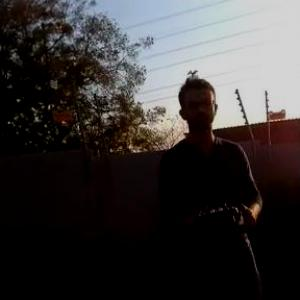follow: (154, 69, 272, 299)
